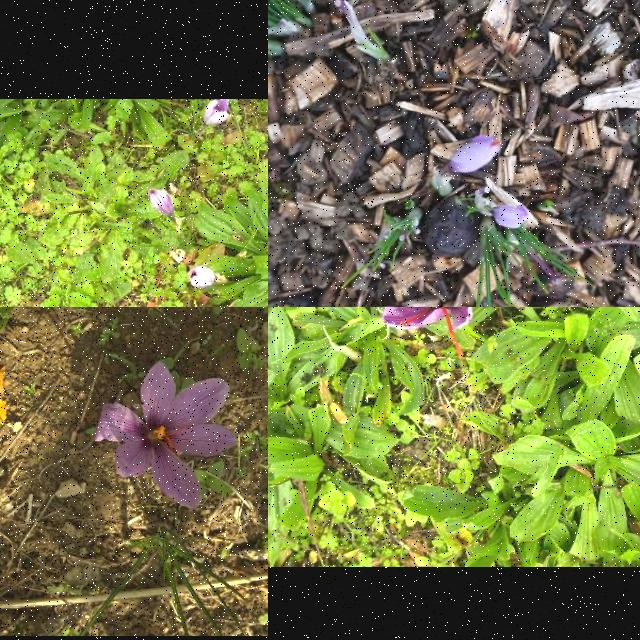flower: (94, 360, 240, 510), (381, 307, 474, 361), (448, 134, 502, 174), (493, 204, 531, 230), (203, 99, 229, 127), (150, 189, 174, 219), (187, 265, 216, 289)
